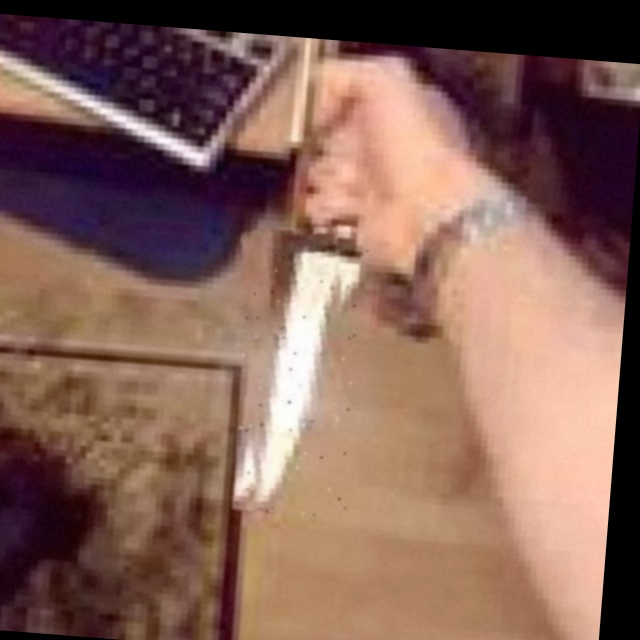Sharp-Object: (231, 222, 373, 519)
